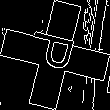P_E: (26, 31, 84, 79)
